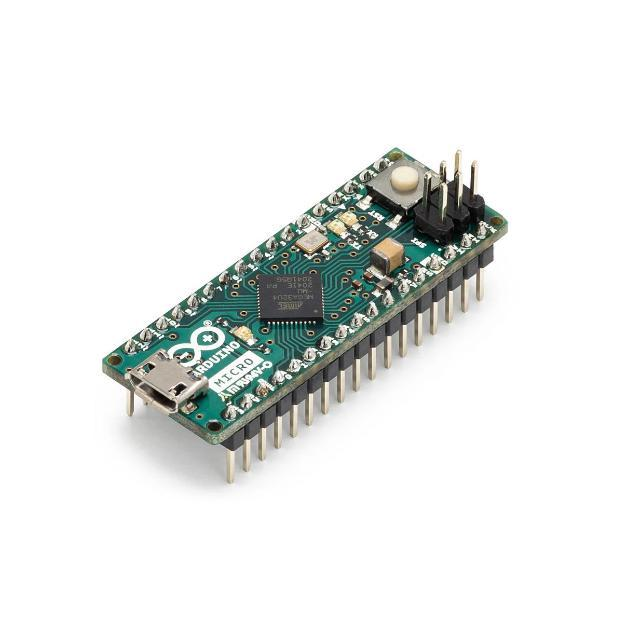Arduino-Micro: (105, 149, 508, 454)
